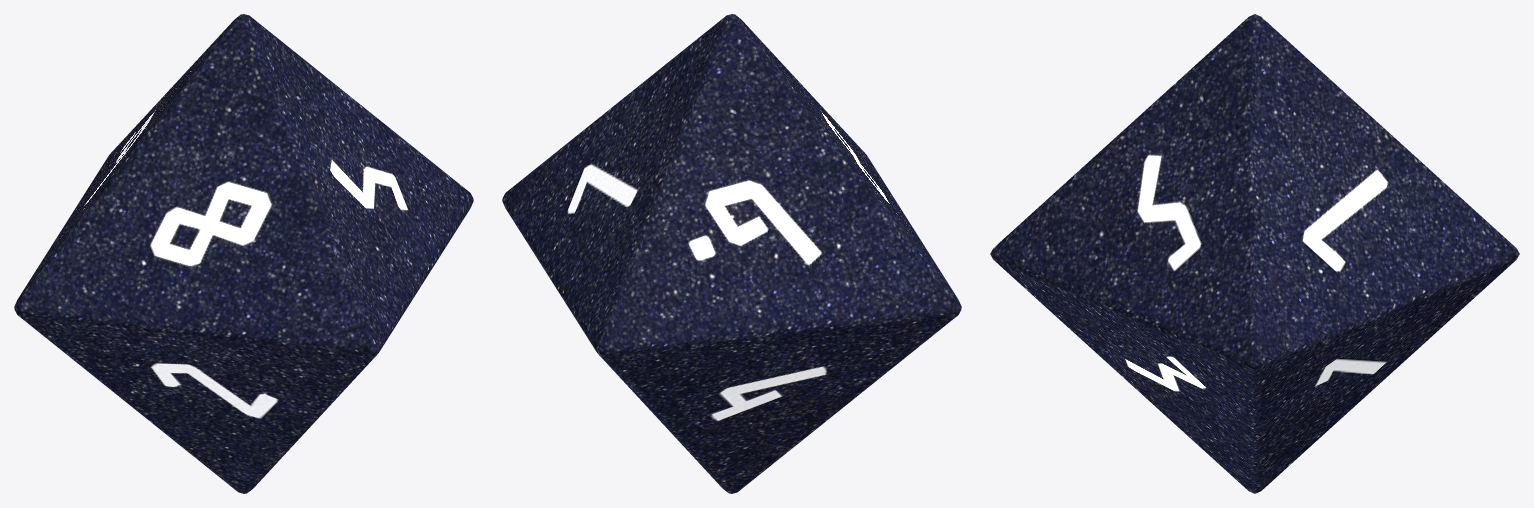
Rendered from dicemodel_d8.gltf.
3 renders of one model, left to right at view 1: azimuth 30°, elevation 25°; view 2: azimuth 150°, elevation 25°; view 3: azimuth 270°, elevation 25°, orthographic.
Visible parts, largest first — view 1: dicemodel_d8; view 2: dicemodel_d8; view 3: dicemodel_d8.
Part boxes in pixels (bbox=[...]): dicemodel_d8: bbox=[14, 14, 473, 493]; dicemodel_d8: bbox=[502, 14, 961, 493]; dicemodel_d8: bbox=[990, 14, 1519, 493].
Size of the model in its own units: 191 by 191 by 191.
Materials: 1 (1 with a texture image).
